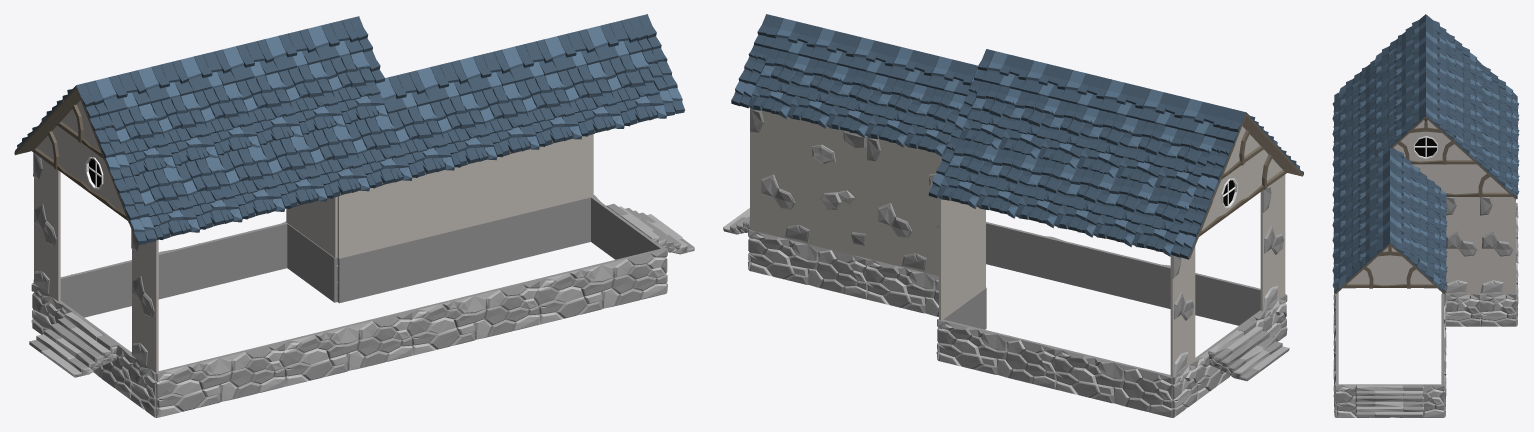
The model's file is HOUSE_14_PARTS.fbx.
The picture shows the model from 3 angles, left to right: view 1: azimuth 30°, elevation 25°; view 2: azimuth 150°, elevation 25°; view 3: azimuth 270°, elevation 25°; orthographic projection. The views are drawn at different scales.
Visible parts, largest first — view 1: WALL_05_4, WALL_05_3, FOUNDATION_01_2, FOUNDATION_01_4, FOUNDATION_01_5, FOUNDATION_01_3, FOUNDATION_01_8, FOUNDATION_01_9, FOUNDATION_01_7, WALL_03_3, WALL_03_2, STAIRS_03_3 (+50 smaller); view 2: WALL_05_3, WALL_05_4, FOUNDATION_01_10, FOUNDATION_01_3, FOUNDATION_01_9, FOUNDATION_01_7, WALL_03_2, FOUNDATION_01_8, WALL_03_3, STAIRS_03_3, FOUNDATION_01_2, WALL_03_4 (+46 smaller); view 3: WALL_03_4, WALL_03_5, STAIRS_03_2, FOUNDATION_01_6, FOUNDATION_03_4, ROOF_TRIANGLE_WOOD_6, ROOF_TRIANGLE_WINDOW_ROUND_3, FOUNDATION_03_5, ROOF_TRIANGLE_WOOD_5, ROOF_base_74, ROOF_base_98, ROOF_base_72 (+72 smaller).
Part boxes in pixels (x1,y1,x2,y2): WALL_05_4: (337, 165, 466, 258); WALL_05_3: (466, 134, 593, 227); FOUNDATION_01_2: (156, 341, 284, 417); FOUNDATION_01_4: (409, 279, 539, 355); FOUNDATION_01_5: (537, 248, 666, 324); FOUNDATION_01_3: (282, 310, 412, 386); FOUNDATION_01_8: (337, 227, 466, 303); FOUNDATION_01_9: (160, 221, 287, 298); FOUNDATION_01_7: (466, 197, 590, 271); WALL_03_3: (33, 152, 60, 301); WALL_03_2: (131, 229, 158, 373); STAIRS_03_3: (29, 312, 117, 377); WALL_05_3: (750, 108, 866, 258); WALL_05_4: (867, 136, 942, 275); FOUNDATION_01_10: (1054, 347, 1173, 417); FOUNDATION_01_3: (1049, 237, 1168, 307); FOUNDATION_01_9: (937, 319, 1056, 389); FOUNDATION_01_7: (748, 230, 866, 299); WALL_03_2: (1260, 175, 1285, 311); FOUNDATION_01_8: (865, 258, 938, 316); WALL_03_3: (1170, 246, 1195, 376); STAIRS_03_3: (1208, 321, 1289, 381); FOUNDATION_01_2: (1166, 265, 1286, 326); WALL_03_4: (939, 198, 963, 320); WALL_03_4: (1480, 197, 1515, 293); WALL_03_5: (1445, 197, 1479, 293); STAIRS_03_2: (1355, 385, 1423, 416); FOUNDATION_01_6: (1336, 384, 1443, 417); FOUNDATION_03_4: (1480, 294, 1515, 326); ROOF_TRIANGLE_WOOD_6: (1444, 164, 1479, 196); ROOF_TRIANGLE_WINDOW_ROUND_3: (1408, 131, 1443, 164); FOUNDATION_03_5: (1446, 294, 1479, 326); ROOF_TRIANGLE_WOOD_5: (1372, 255, 1407, 287); ROOF_base_74: (1368, 114, 1405, 161); ROOF_base_98: (1410, 223, 1447, 269); ROOF_base_72: (1368, 99, 1405, 146).
Size of the model in its own units: 1408 by 659 by 520.
